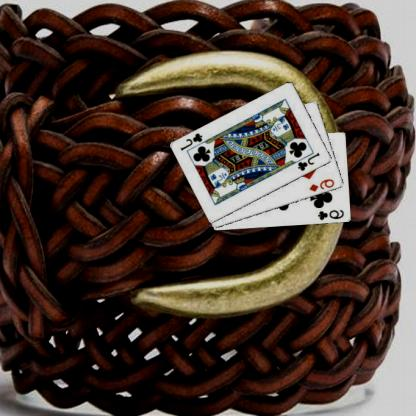6C: (317, 207, 347, 221)
9D: (309, 176, 338, 193)
JC: (297, 150, 323, 172), (180, 130, 206, 152)
